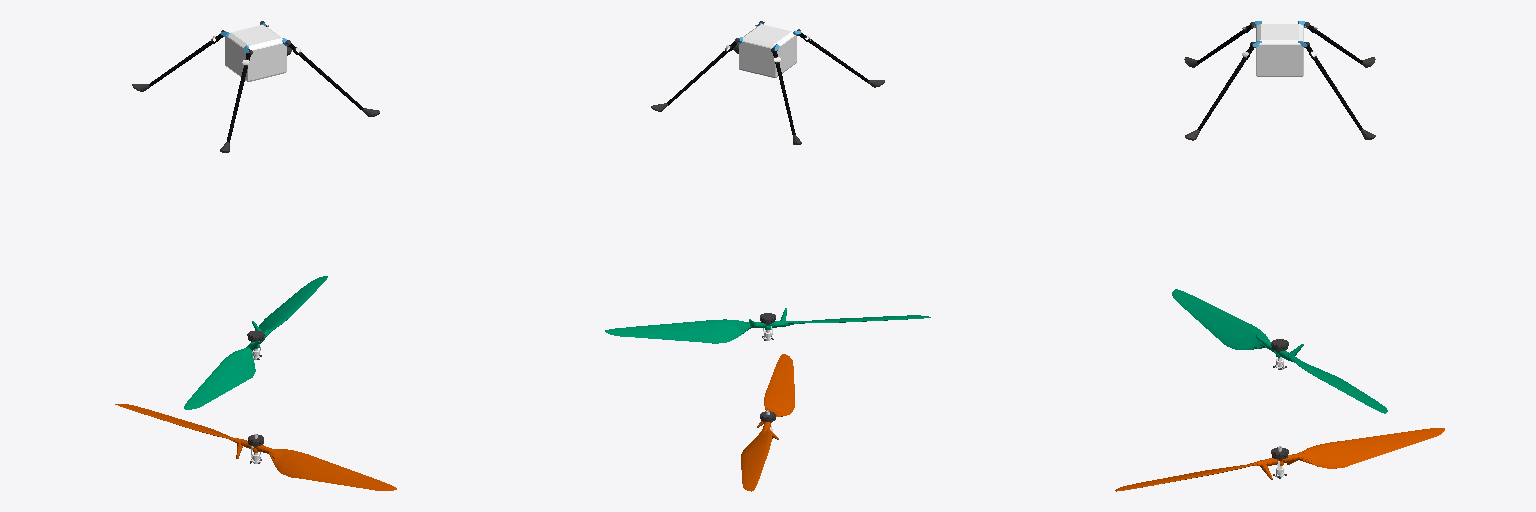
robot.urdf — ingenuity_model:
<robot name="ingenuity_model" version="1.0">
  <!-- Dummy link without inertials connect to the-->
  <link name="ingenuity_world">
  </link>
  <joint name="lift_drag_to_ingenuity_model" type="fixed">
    <parent link="ingenuity_world"/>
    <child link="ingenuity_model"/>
    <origin xyz="0 0 0" rpy="0 0 0"/>
  </joint>
  <!-- Link Definitions -->
  <link name="ingenuity_model">
    <inertial>
      <origin xyz="0 0 0" rpy="0 0 0"/>
      <mass value="10.0"/>
      <inertia ixx="1.8" ixy="0.0" ixz="0.0" iyy="1.8" iyz="0.0" izz="1.8"/>
    </inertial>
    <collision>
      <origin xyz="0 0 0.5" rpy="0 0 0"/>
      <geometry>
        <box size="1 1 1"/>
      </geometry>
    </collision>
    <visual>
      <origin xyz="0 0 0.50" rpy="0 0 0"/>
      <!-- <geometry>
        <box size="1 1 1"/>
      </geometry> -->
      <geometry>
        <mesh filename="package://ingenuity_description/meshes/base_one_part.dae" scale="1 1 1"/>
      </geometry>
      <!-- <material name="">
        <color rgba="0.421 0.225 0.0 1.0"/>
      </material> -->
    </visual>
    
  </link>
  
  <link name="ingenuity_model/rod_1">
    <inertial>
      <origin xyz="0 0 0" rpy="0 0 0"/>
      <mass value="1.0"/>
      <inertia ixx="0.012" ixy="0.0" ixz="0.0" iyy="0.012" iyz="0.0" izz="0.0012"/>
    </inertial>
    <collision>
      <origin xyz="0 0 1.25" rpy="0 0 0"/>
      <geometry>
        <box size="0.02 0.02 0.5"/>
      </geometry>
    </collision>
    <visual>
      <origin xyz="0 0 -0.75" rpy="0 0 0"/>
      <!-- <geometry>
        <box size="0.02 0.02 0.5"/>
      </geometry> -->
      <geometry>
        <mesh filename="package://ingenuity_description/meshes/rotor_blade_bottom.dae" scale="1 1 1"/>
      </geometry>
      <!-- <material name="">
        <color rgba="0.421 0.225 0.0 1.0"/>
      </material> -->
    </visual>
  </link>
  
  <link name="ingenuity_model/blade_1">
    <inertial>
      <origin xyz="0 0.5 0" rpy="0 0 0"/>
      <mass value="0.01"/>
      <inertia ixx="0.0000465" ixy="0.0" ixz="0.0" iyy="0.0000006" iyz="0.0" izz="0.0000470"/>
    </inertial>
    <collision>
      <origin xyz="0 0.5 1.5" rpy="0 0 0"/>
      <geometry>
        <box size="0.2 1.0 0.01"/>
      </geometry>
    </collision>
    <!-- <visual>
      <origin xyz="0 0.5 0" rpy="0 0 0"/>
      <geometry>
        <box size="0.2 1.0 0.01"/>
      </geometry>
      <material name="">
        <color rgba="0.421 0.225 0.0 1.0"/>
      </material>
    </visual> -->
  </link>
  
  <link name="ingenuity_model/blade_2">
    <inertial>
      <origin xyz="0 0.5 0" rpy="0 0 0"/>
      <mass value="0.01"/>
      <inertia ixx="0.0000465" ixy="0.0" ixz="0.0" iyy="0.0000006" iyz="0.0" izz="0.0000470"/>
    </inertial>
    <collision>
      <origin xyz="0 0.5 1.5" rpy="0 0 3.141593"/>
      <geometry>
        <box size="0.2 1.0 0.01"/>
      </geometry>
    </collision>
    <!-- <visual>
      <origin xyz="0 0.5 0" rpy="0 0 0"/>
      <geometry>
        <box size="0.2 1.0 0.01"/>
      </geometry>
      <material name="">
        <color rgba="0.421 0.225 0.0 1.0"/>
      </material>
    </visual> -->
  </link>
  
  <link name="ingenuity_model/rod_2">
    <inertial>
      <origin xyz="0 0 0" rpy="0 0 0"/>
      <mass value="1.0"/>
      <inertia ixx="0.012" ixy="0.0" ixz="0.0" iyy="0.012" iyz="0.0" izz="0.0012"/>
    </inertial>
    <collision>
      <origin xyz="0 0 1.75" rpy="0 0 0"/>
      <geometry>
        <box size="0.02 0.02 0.5"/>
      </geometry>
    </collision>
    <visual>
      <origin xyz="0 0 -1.25" rpy="0 0 0"/>
      <!-- <geometry>
        <box size="0.02 0.02 0.5"/>
      </geometry>
      <material name="">
        <color rgba="0.421 0.225 0.0 1.0"/>
      </material> -->
      <geometry>
        <mesh filename="package://ingenuity_description/meshes/rotor_blade_top.dae" scale="1 1 1"/>
      </geometry>
    </visual>
  </link>
  
  <link name="ingenuity_model/blade_3">
    <inertial>
      <origin xyz="0 0.5 0" rpy="0 0 0"/>
      <mass value="0.01"/>
      <inertia ixx="0.0000465" ixy="0.0" ixz="0.0" iyy="0.0000006" iyz="0.0" izz="0.0000470"/>
    </inertial>
    <collision>
      <origin xyz="0 0.5 2.0" rpy="0 0 0"/>
      <geometry>
        <box size="0.2 1.0 0.01"/>
      </geometry>
    </collision>
    <!-- <visual>
      <origin xyz="0 0.5 0.0" rpy="0 0 0"/>
      <geometry>
        <box size="0.2 1.0 0.01"/>
      </geometry>
      <material name="">
        <color rgba="0.421 0.225 0.0 1.0"/>
      </material>
    </visual> -->
  </link>

  <link name="ingenuity_model/blade_4">
    <inertial>
      <origin xyz="0 0.5 0" rpy="0 0 0"/>
      <mass value="0.01"/>
      <inertia ixx="0.0000465" ixy="0.0" ixz="0.0" iyy="0.0000006" iyz="0.0" izz="0.0000470"/>
    </inertial>
    <collision>
      <origin xyz="0 0.5 2.0" rpy="0 0 3.141593"/>
      <geometry>
        <box size="0.2 1.0 0.01"/>
      </geometry>
    </collision>
    <!-- <visual>
      <origin xyz="0 0.5 0.0" rpy="0 0 0"/>
      <geometry>
        <box size="0.2 1.0 0.01"/>
      </geometry>
      <material name="">
        <color rgba="0.421 0.225 0.0 1.0"/>
      </material>
    </visual> -->
  </link>



  <!-- <link name="solar_panel">
    <origin xyz="0 0 0.5" rpy="0 0 0"/>
    <visual>
      <geometry>
        <mesh filename="package://ingenuity_description/meshes/solar_panel_one_part.dae" scale="1 1 1"/>
      </geometry>
    </visual>
  </link> -->


  <!-- Joint Definitions -->
  <joint name="ingenuity_model/rod_1_joint" type="continuous">
    <parent link="ingenuity_model"/>
    <child link="ingenuity_model/rod_1"/>
    <origin xyz="0 0 0" rpy="0 0 0"/>
    <axis xyz="0 0 -1"/>
    <dynamics damping="0.0001" friction="0.1"/>
    <limit effort="30" velocity="1e16" />
  </joint>
  
  <joint name="ingenuity_model/blade_1_joint" type="fixed">
    <parent link="ingenuity_model/rod_1"/>
    <child link="ingenuity_model/blade_1"/>
    <origin xyz="0 0 0" rpy="0 0 0"/>
  </joint>
  
  <joint name="ingenuity_model/blade_2_joint" type="fixed">
    <parent link="ingenuity_model/rod_1"/>
    <child link="ingenuity_model/blade_2"/>
    <origin xyz="0 0 0" rpy="0 0 0"/>
  </joint>
  
  <joint name="ingenuity_model/rod_2_joint" type="continuous">
    <parent link="ingenuity_model"/>
    <child link="ingenuity_model/rod_2"/>
    <origin xyz="0 0 0" rpy="0 0 0"/>
    <axis xyz="0 0 1"/>
    <dynamics damping="0.0001" friction="0.1"/>
    <limit effort="30" velocity="1e16"/>
  </joint>
  
  <joint name="ingenuity_model/blade_3_joint" type="fixed">
    <parent link="ingenuity_model/rod_2"/>
    <child link="ingenuity_model/blade_3"/>
    <origin xyz="0 0 0" rpy="0 0 0"/>
  </joint>
  
  <joint name="ingenuity_model/blade_4_joint" type="fixed">
    <parent link="ingenuity_model/rod_2"/>
    <child link="ingenuity_model/blade_4"/>
    <origin xyz="0 0 0" rpy="0 0 0"/>
  </joint>
  
</robot>

--- Facts derived from the render (not from the file) ---
Views: 3 orthographic renders of the robot side by side, from view 1: azimuth 30°, elevation 25°; view 2: azimuth 150°, elevation 25°; view 3: azimuth 270°, elevation 25°.
Model ingenuity_model with 8 links and 7 joints (2 continuous, 5 fixed), rooted at ingenuity_world, posed every joint at zero.
Visible links, largest first — view 1: ingenuity_model, ingenuity_model/rod_2, ingenuity_model/rod_1; view 2: ingenuity_model, ingenuity_model/rod_1, ingenuity_model/rod_2; view 3: ingenuity_model, ingenuity_model/rod_2, ingenuity_model/rod_1.
Boxes of the visible links, left/top/right/bottom form: ingenuity_model: left=132, top=21, right=379, bottom=152; ingenuity_model/rod_2: left=115, top=404, right=396, bottom=490; ingenuity_model/rod_1: left=184, top=276, right=327, bottom=409; ingenuity_model: left=651, top=21, right=884, bottom=144; ingenuity_model/rod_1: left=605, top=308, right=930, bottom=343; ingenuity_model/rod_2: left=741, top=354, right=794, bottom=491; ingenuity_model: left=1184, top=21, right=1375, bottom=140; ingenuity_model/rod_2: left=1115, top=428, right=1444, bottom=491; ingenuity_model/rod_1: left=1172, top=289, right=1387, bottom=413.
Size in the robot's own frame: 0.9864 by 1.11 by 1.66 metres.
Meshes: 3 distinct files referenced, 3 mesh visuals loaded (3 Collada DAE).